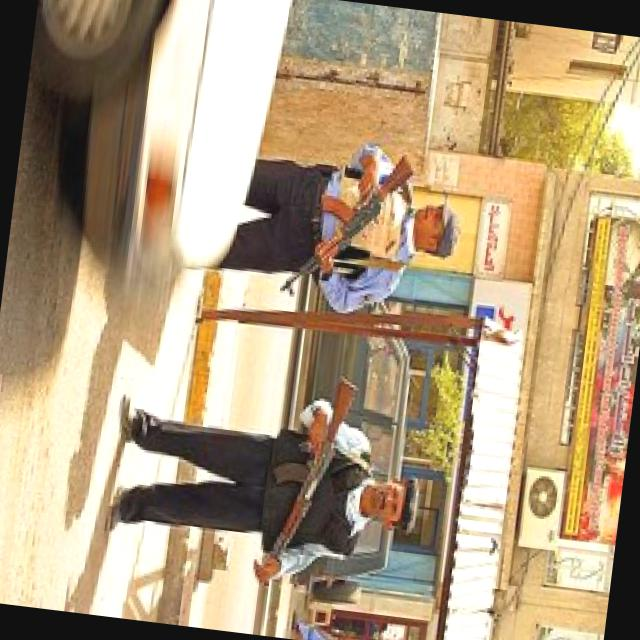long weapon: (271, 144, 417, 321)
